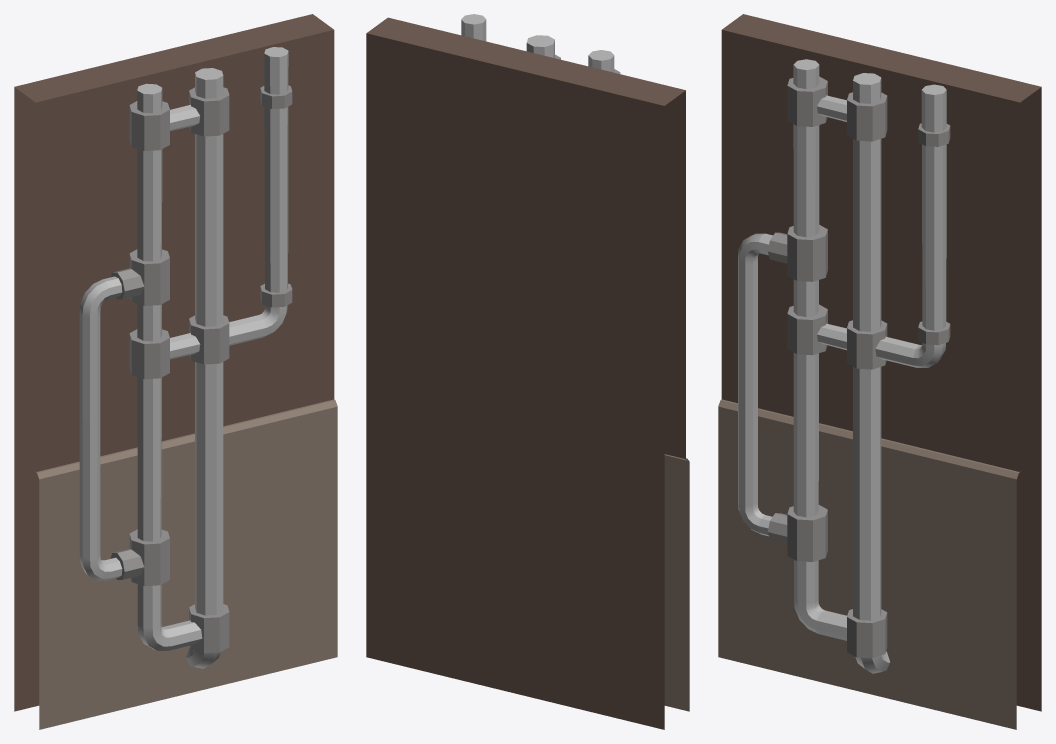
Rendered from pared_1.fbx.
3 views of the same model, side by side, from view 1: azimuth 30°, elevation 25°; view 2: azimuth 150°, elevation 25°; view 3: azimuth 330°, elevation 25° (orthographic).
Visible parts, largest first — view 1: base1, zocalo, tuberia_1, tuberia_3, tuberia_5, tuberia_2, tuberia_conexión_3, tuberia_conexión_7, tuberia_conexión_4, tuberia_conexión_6, tuberia_conexión_8, tuberia_conexión_9 (+7 smaller); view 2: base1, zocalo, tuberia_2, tuberia_1; view 3: base1, zocalo, tuberia_1, tuberia_3, tuberia_2, tuberia_5, tuberia_conexión_4, tuberia_conexión_6, tuberia_conexión_8, tuberia_conexión_10, tuberia_conexión_3, tuberia_conexión_7 (+7 smaller).
Part boxes in pixels (left/top/right/bottom): base1: left=14, top=14, right=334, bottom=711; zocalo: left=35, top=399, right=337, bottom=729; tuberia_1: left=186, top=68, right=223, bottom=668; tuberia_3: left=137, top=83, right=202, bottom=650; tuberia_5: left=79, top=276, right=122, bottom=580; tuberia_2: left=229, top=47, right=288, bottom=345; tuberia_conexión_3: left=129, top=329, right=169, bottom=379; tuberia_conexión_7: left=129, top=101, right=169, bottom=150; tuberia_conexión_4: left=129, top=529, right=169, bottom=586; tuberia_conexión_6: left=129, top=249, right=169, bottom=305; tuberia_conexión_8: left=189, top=87, right=229, bottom=136; tuberia_conexión_9: left=189, top=315, right=229, bottom=364; base1: left=366, top=17, right=685, bottom=729; zocalo: left=664, top=454, right=689, bottom=711; tuberia_2: left=461, top=14, right=486, bottom=41; tuberia_1: left=526, top=35, right=554, bottom=57; base1: left=721, top=14, right=1041, bottom=711; zocalo: left=718, top=399, right=1020, bottom=729; tuberia_1: left=853, top=73, right=890, bottom=673; tuberia_3: left=793, top=59, right=846, bottom=640; tuberia_2: left=875, top=84, right=946, bottom=367; tuberia_5: left=738, top=233, right=772, bottom=536; tuberia_conexión_4: left=787, top=505, right=827, bottom=561; tuberia_conexión_6: left=787, top=225, right=827, bottom=281; tuberia_conexión_8: left=847, top=92, right=887, bottom=141; tuberia_conexión_10: left=847, top=609, right=887, bottom=658; tuberia_conexión_3: left=787, top=304, right=827, bottom=355; tuberia_conexión_7: left=787, top=76, right=827, bottom=126.
Bounding box in the file's own units: 100 × 202 × 26.71.
